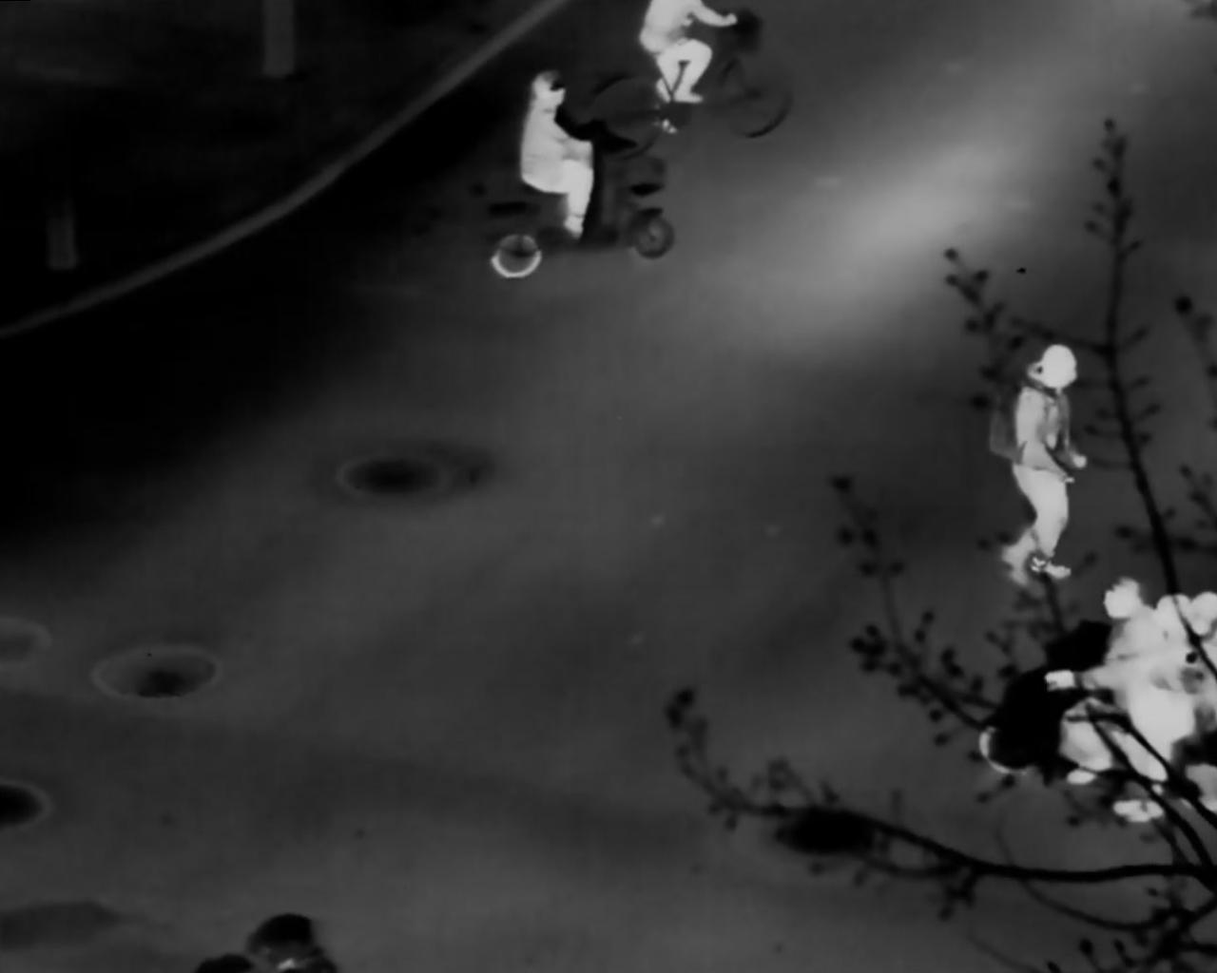person: (1044, 575, 1168, 788), (984, 341, 1088, 589), (1116, 591, 1183, 824), (516, 68, 594, 242), (1179, 591, 1217, 746)
